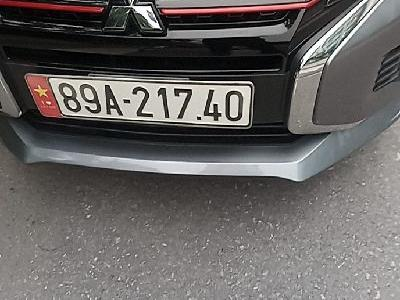lisence: (23, 72, 256, 132)
